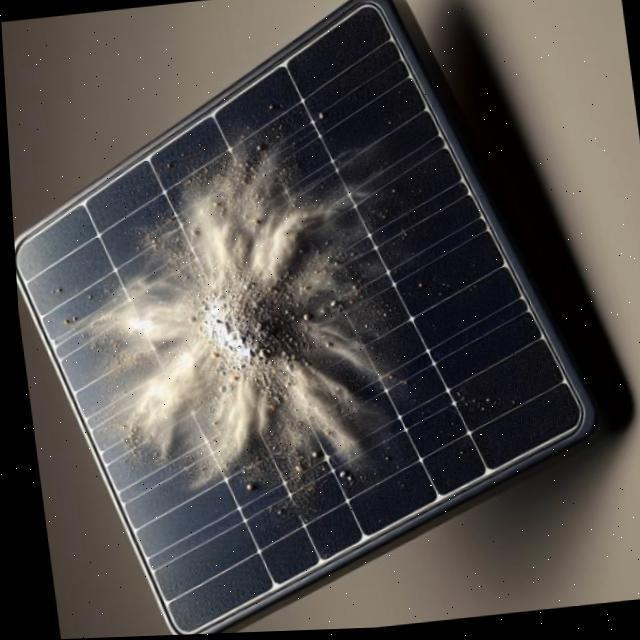Anomaly Solar Panel: (8, 1, 586, 636)
Surface Contaminant: (14, 38, 560, 610)
